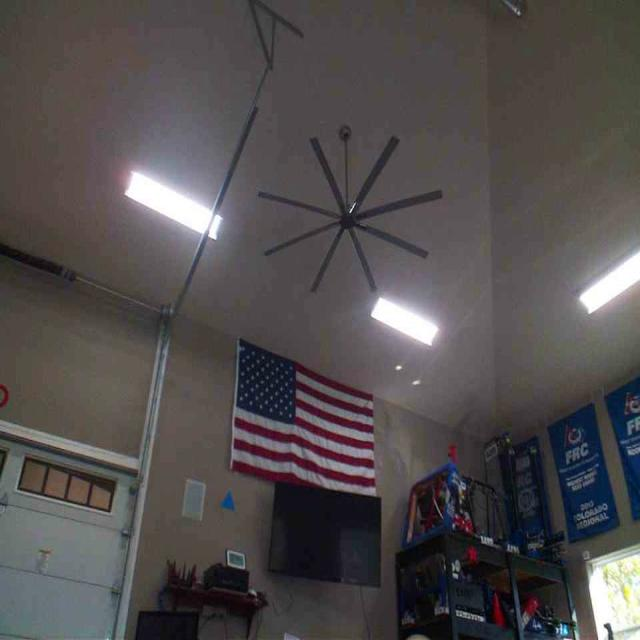triangle_blue: (219, 490, 235, 513)
